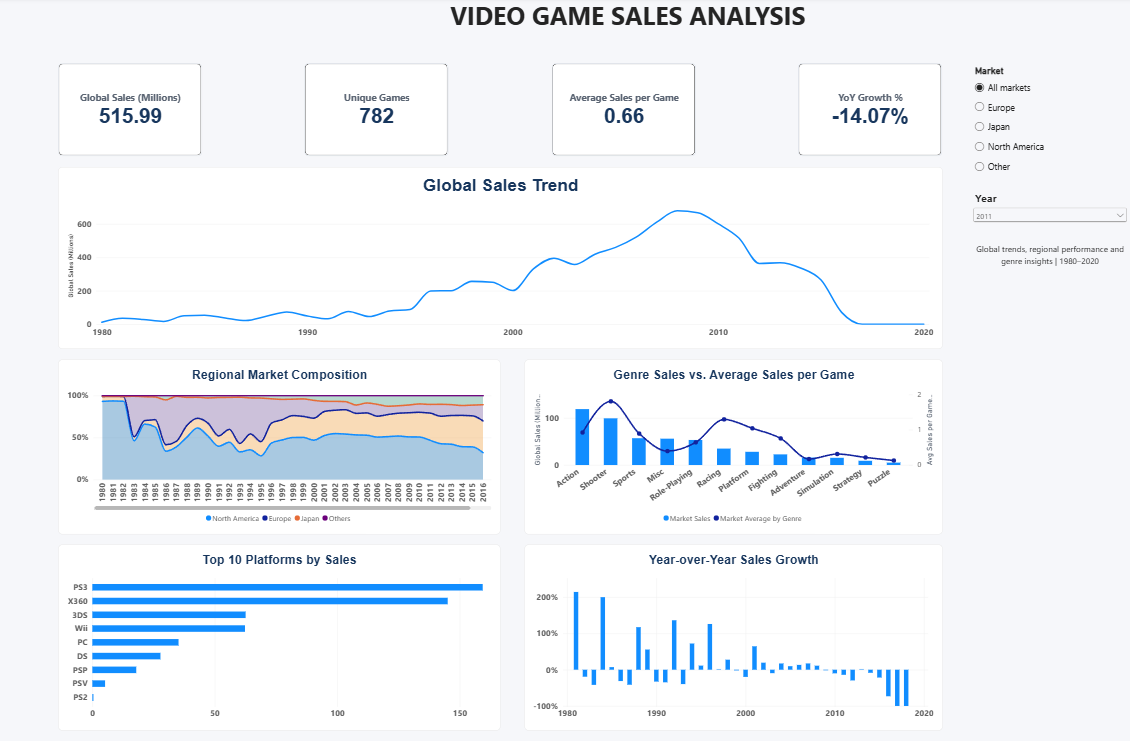

The dashboard page shown, as its layout file describes it:
{"tool":"powerbi","page":{"name":"Game Sales Dashboard","canvas":[2200,1440],"ordinal":0},"visuals":[{"type":"cardVisual","fields":{"Data":["video game sales - ssample.Total Global Sales"]},"box":[118,128.6,277.9,179.1],"z":0},{"type":"cardVisual","fields":{"Data":["DateTable.Selected Market Unique Games"]},"box":[594.6,128.6,277.9,179.1],"z":1000},{"type":"cardVisual","fields":{"Data":["DateTable.Selected Market Average Sales per Game"]},"box":[1071.2,128.6,277.9,179.1],"z":2000},{"type":"slicer","fields":{"Values":["YearTable.Year"]},"box":[1879.6,376.4,306.4,98.9],"z":3000},{"type":"cardVisual","fields":{"Data":["DateTable.Selected Market YoY Growth %"]},"box":[1547.9,128.6,277.9,179.1],"z":4000},{"type":"lineChart","title":"Global Sales Trend","fields":{"Category":["YearTable.Year"],"Y":["video game sales - ssample.Total Global Sales"]},"box":[118,329.3,1707,351.3],"z":5000},{"type":"hundredPercentStackedAreaChart","title":"Regional Market Composition","fields":{"Category":["YearTable.Year"],"Y":["Sum(video game sales - ssample.NA_Sales)","Sum(video game sales - ssample.EU_Sales)","Sum(video game sales - ssample.JP_Sales)","Sum(video game sales - ssample.Other_Sales)"]},"box":[118,699.8,853.5,337.6],"z":6000},{"type":"clusteredBarChart","title":"Top 10 Platforms by Sales","fields":{"Category":["video game sales - ssample.Platform"],"Y":["DateTable.Selected Market Sales"]},"box":[118,1056.6,853.5,359.5],"z":7000},{"type":"lineClusteredColumnComboChart","title":"Genre Sales vs. Average Sales per Game","fields":{"Category":["video game sales - ssample.Genre"],"Y":["DateTable.Selected Market Sales"],"Y2":["DateTable.Selected Market Average by Genre"]},"box":[1017.5,700,807.5,337.5],"z":8000},{"type":"clusteredColumnChart","title":"Year-over-Year Sales Growth","fields":{"Category":["YearTable.Year"],"Y":["DateTable.Selected Market YoY Growth %"]},"box":[1018.2,1056.6,806.9,359.5],"z":9000},{"type":"slicer","fields":{"Values":["MarketSelector.Market"]},"box":[1879.6,132.7,311.3,231.6],"z":10000},{"type":"textbox","box":[96.1,2.7,2242.2,109.8],"z":11000},{"type":"textbox","box":[1879.6,475.3,306.4,125.5],"z":12000}]}

Visuals, with their boxes in screenshot pixels (x1, y1, x2, y2), scaled from the page's 2200x1440 canvas onto the 1130x741 screenshot:
cardVisual - video game sales - ssample.Total Global Sales: BBox(61, 66, 203, 158)
cardVisual - DateTable.Selected Market Unique Games: BBox(305, 66, 448, 158)
cardVisual - DateTable.Selected Market Average Sales per Game: BBox(550, 66, 693, 158)
slicer - YearTable.Year: BBox(965, 194, 1123, 245)
cardVisual - DateTable.Selected Market YoY Growth %: BBox(795, 66, 938, 158)
"Global Sales Trend" lineChart: BBox(61, 169, 937, 350)
"Regional Market Composition" hundredPercentStackedAreaChart: BBox(61, 360, 499, 534)
"Top 10 Platforms by Sales" clusteredBarChart: BBox(61, 544, 499, 729)
"Genre Sales vs. Average Sales per Game" lineClusteredColumnComboChart: BBox(523, 360, 937, 534)
"Year-over-Year Sales Growth" clusteredColumnChart: BBox(523, 544, 937, 729)
slicer - MarketSelector.Market: BBox(965, 68, 1125, 187)
textbox: BBox(49, 1, 1129, 58)
textbox: BBox(965, 245, 1123, 309)
